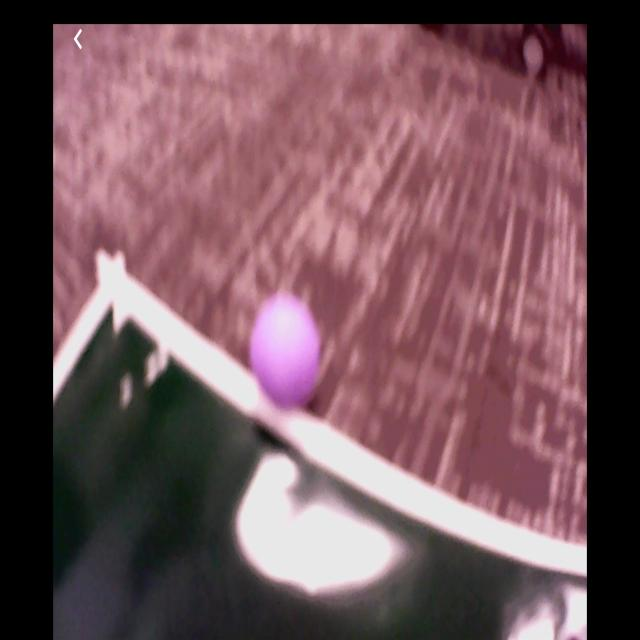ball: (253, 296, 321, 408)
